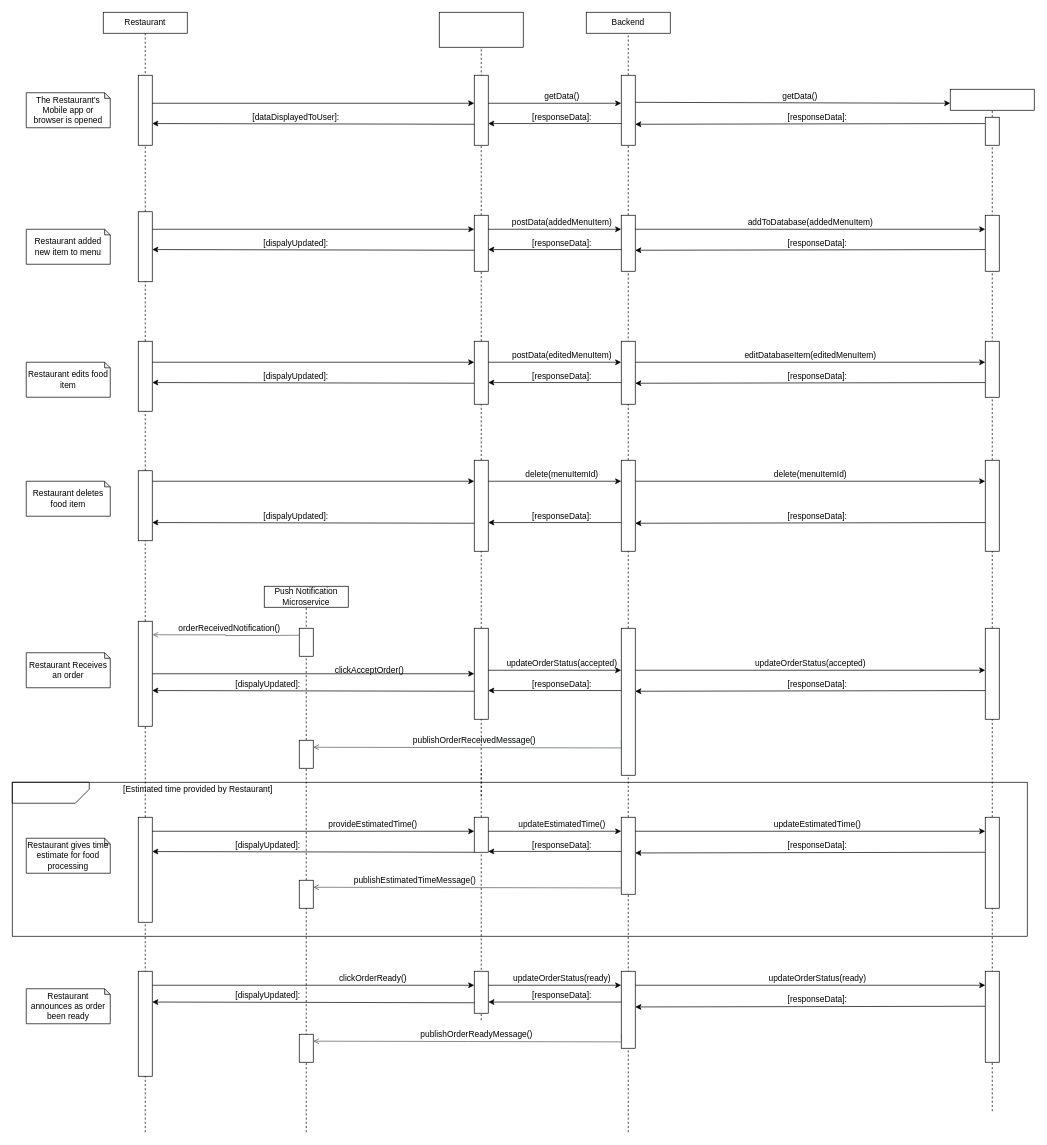
The diagram is 1047 pixels wide and 1145 high, and some of its shapes have lost their labels. The shapes that lost their labels are listed below. From the top down, each one's box as (x1, y1, x2, y2) in pixels, then its label:
(439, 12, 523, 47): Restaurant's User Interface (Mobile or Browser)
(950, 89, 1034, 110): Database
(12, 782, 89, 803): Opt
